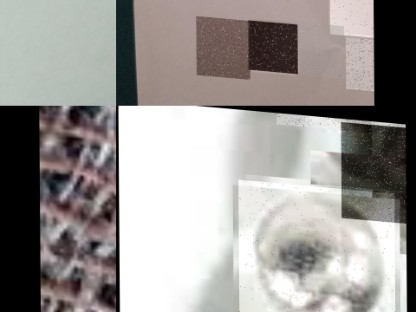ironball: (237, 175, 394, 311), (340, 116, 406, 216), (195, 12, 249, 74), (247, 15, 296, 68), (298, 16, 343, 72), (344, 30, 373, 84), (328, 0, 373, 30)
